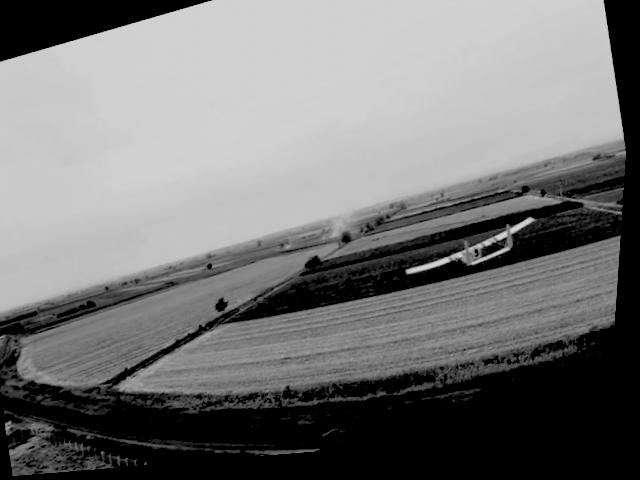hedef: (396, 218, 552, 316)
